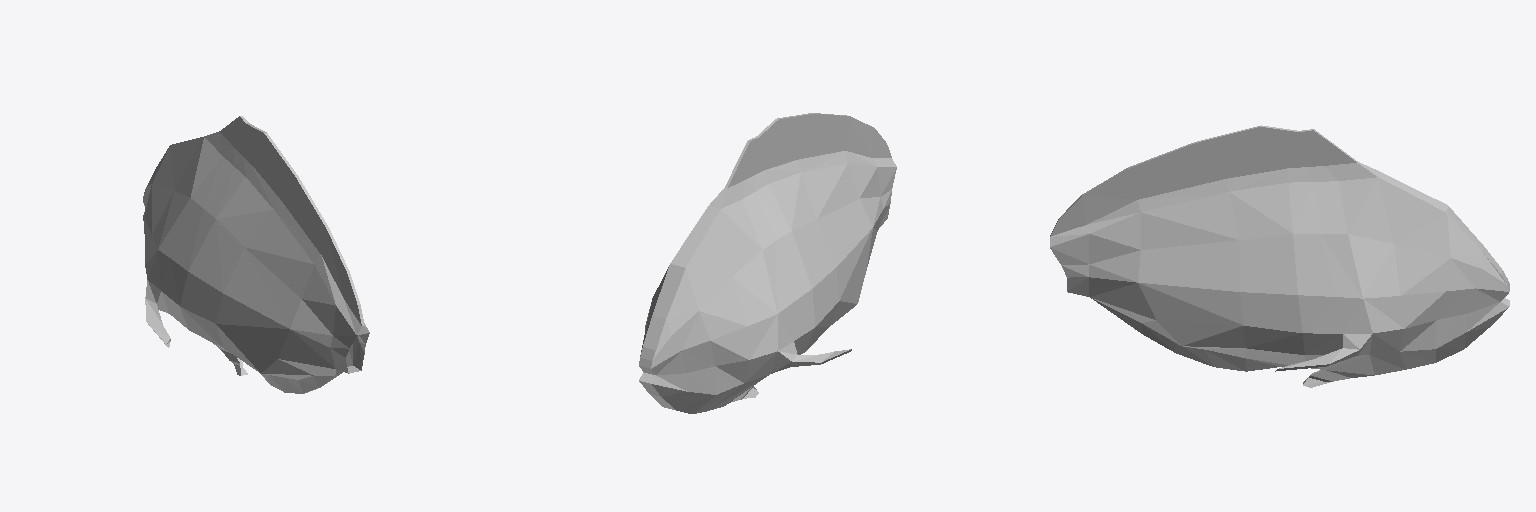
File: cpez1.obj
The picture shows the model from 3 angles: view 1: azimuth 30°, elevation 25°; view 2: azimuth 150°, elevation 25°; view 3: azimuth 270°, elevation 25°; orthographic projection.
Parts seen in each view (by area): view 1: polySurface90 polySurface88; view 2: polySurface90 polySurface88; view 3: polySurface90 polySurface88.
Boxes of the visible parts, box(x1,y1,x2,y2) form: polySurface90 polySurface88: box(143, 116, 369, 393); polySurface90 polySurface88: box(639, 113, 896, 413); polySurface90 polySurface88: box(1050, 125, 1509, 387).
Bounding box in the file's own units: 0.2856 × 0.4079 × 0.6555.